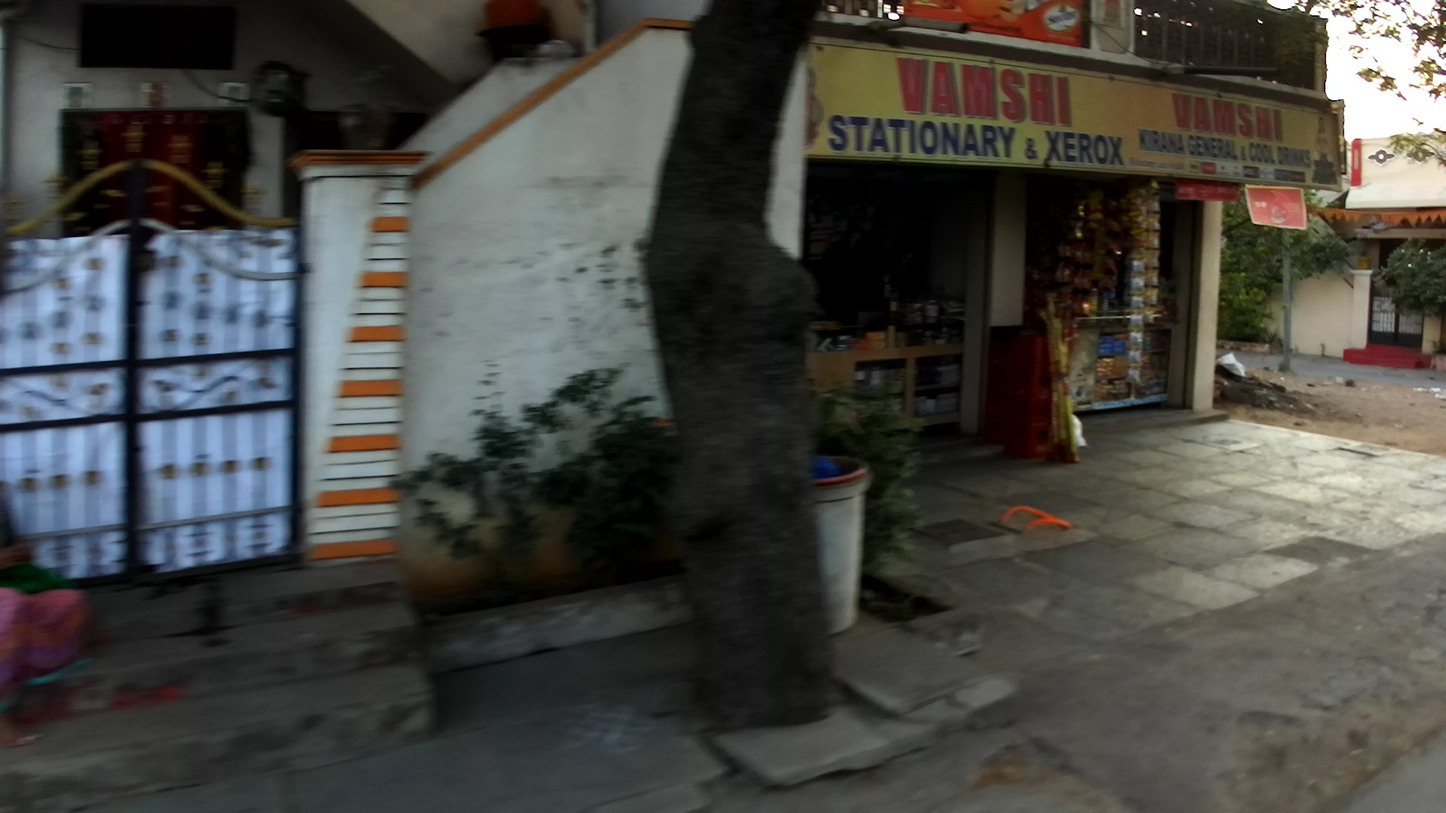person: (1, 482, 95, 752)
